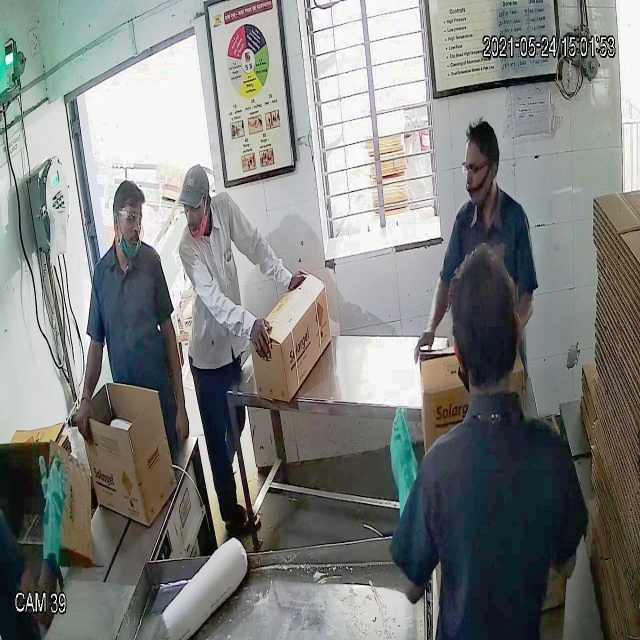Gafas: (109, 204, 146, 233), (461, 156, 497, 181)
Sin_gafas: (179, 199, 205, 220)
